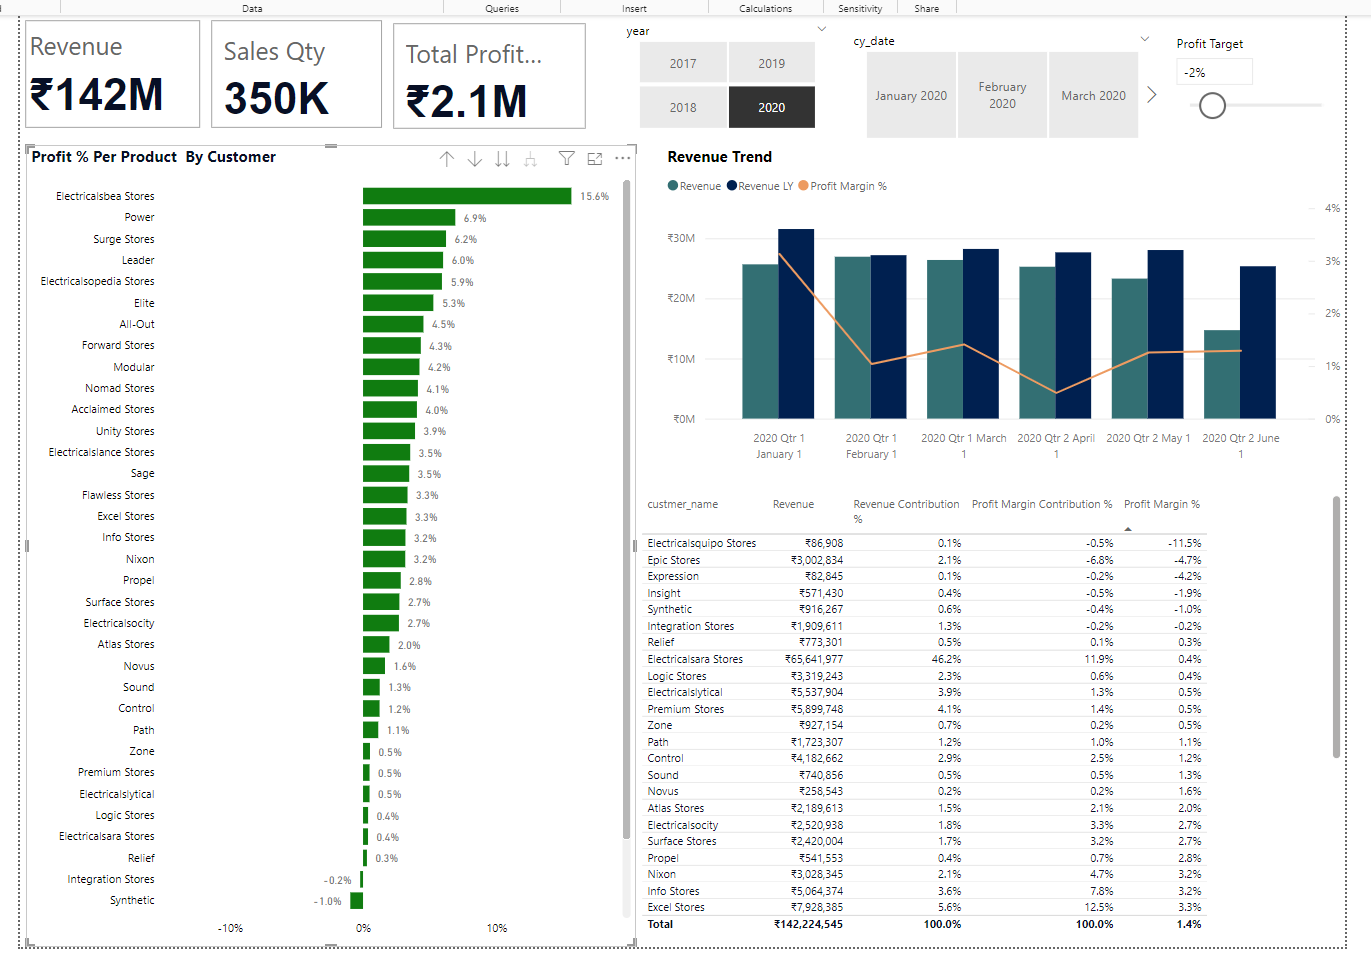

This screenshot's page, from the dashboard's own definition file:
{"tool":"powerbi","page":{"name":"Performance","canvas":[1280,900],"ordinal":2},"visuals":[{"type":"cardVisual","fields":{"Data":["Base_Measures.Revenue"]},"box":[0,0,179.6,114.9],"z":0},{"type":"cardVisual","fields":{"Data":["Base_Measures.Sales Qty"]},"box":[179.6,0,175.8,114.9],"z":1000},{"type":"slicer","fields":{"Values":["sales_date.year"]},"box":[572.6,1,219.2,114.9],"z":2000},{"type":"slicer","fields":{"Values":["sales_date.cy_date"]},"box":[791.8,10.6,311.9,114.9],"z":3000},{"type":"tableEx","title":"Top 5 Customers","fields":{"Values":["sales_customers.custmer_name","Base_Measures.Revenue","Base_Measures.Revenue Contribution %","Base_Measures.Profit Margin Contribution %","Base_Measures.Profit Margin %"]},"box":[594.8,458.7,685.6,430.7],"z":4000},{"type":"lineClusteredColumnComboChart","title":"Revenue Trend","fields":{"Category":["sales_date.cy_date.Variation.Date Hierarchy.Year","sales_date.cy_date.Variation.Date Hierarchy.Quarter","sales_date.cy_date.Variation.Date Hierarchy.Month","sales_date.cy_date.Variation.Date Hierarchy.Day"],"Y":["Base_Measures.Revenue","Base_Measures.Revenue LY"],"Y2":["Base_Measures.Profit Margin %"]},"box":[620,125.5,660.5,312.9],"z":5000},{"type":"cardVisual","fields":{"Data":["Base_Measures.Total Profit MArgin"]},"box":[355.4,2.9,196,112],"z":6000},{"type":"clusteredBarChart","title":"Profit % Per Product  By  Product Code","fields":{"Category":["sales_markets.zone","sales_customers.custmer_name","sales_products.product_code"],"Y":["Base_Measures.Profit Margin %"]},"box":[5.8,125.5,589.1,774.5],"z":7000},{"type":"slicer","fields":{"Values":["Profit Target 2.Profit Target"]},"box":[1103.8,13.5,176.7,102.4],"z":8000}]}

Visuals, with their boxes on the page's 1280x900 design canvas (x1, y1, x2, y2). These are canvas units, not pixel positions in the 1371x954 screenshot, which may show the page scaled, cropped or inside an application window:
cardVisual - Base_Measures.Revenue: <region>0, 0, 180, 115</region>
cardVisual - Base_Measures.Sales Qty: <region>180, 0, 355, 115</region>
slicer - sales_date.year: <region>573, 1, 792, 116</region>
slicer - sales_date.cy_date: <region>792, 11, 1104, 126</region>
"Top 5 Customers" tableEx: <region>595, 459, 1280, 889</region>
"Revenue Trend" lineClusteredColumnComboChart: <region>620, 126, 1280, 438</region>
cardVisual - Base_Measures.Total Profit MArgin: <region>355, 3, 551, 115</region>
"Profit % Per Product  By  Product Code" clusteredBarChart: <region>6, 126, 595, 900</region>
slicer - Profit Target 2.Profit Target: <region>1104, 14, 1280, 116</region>
